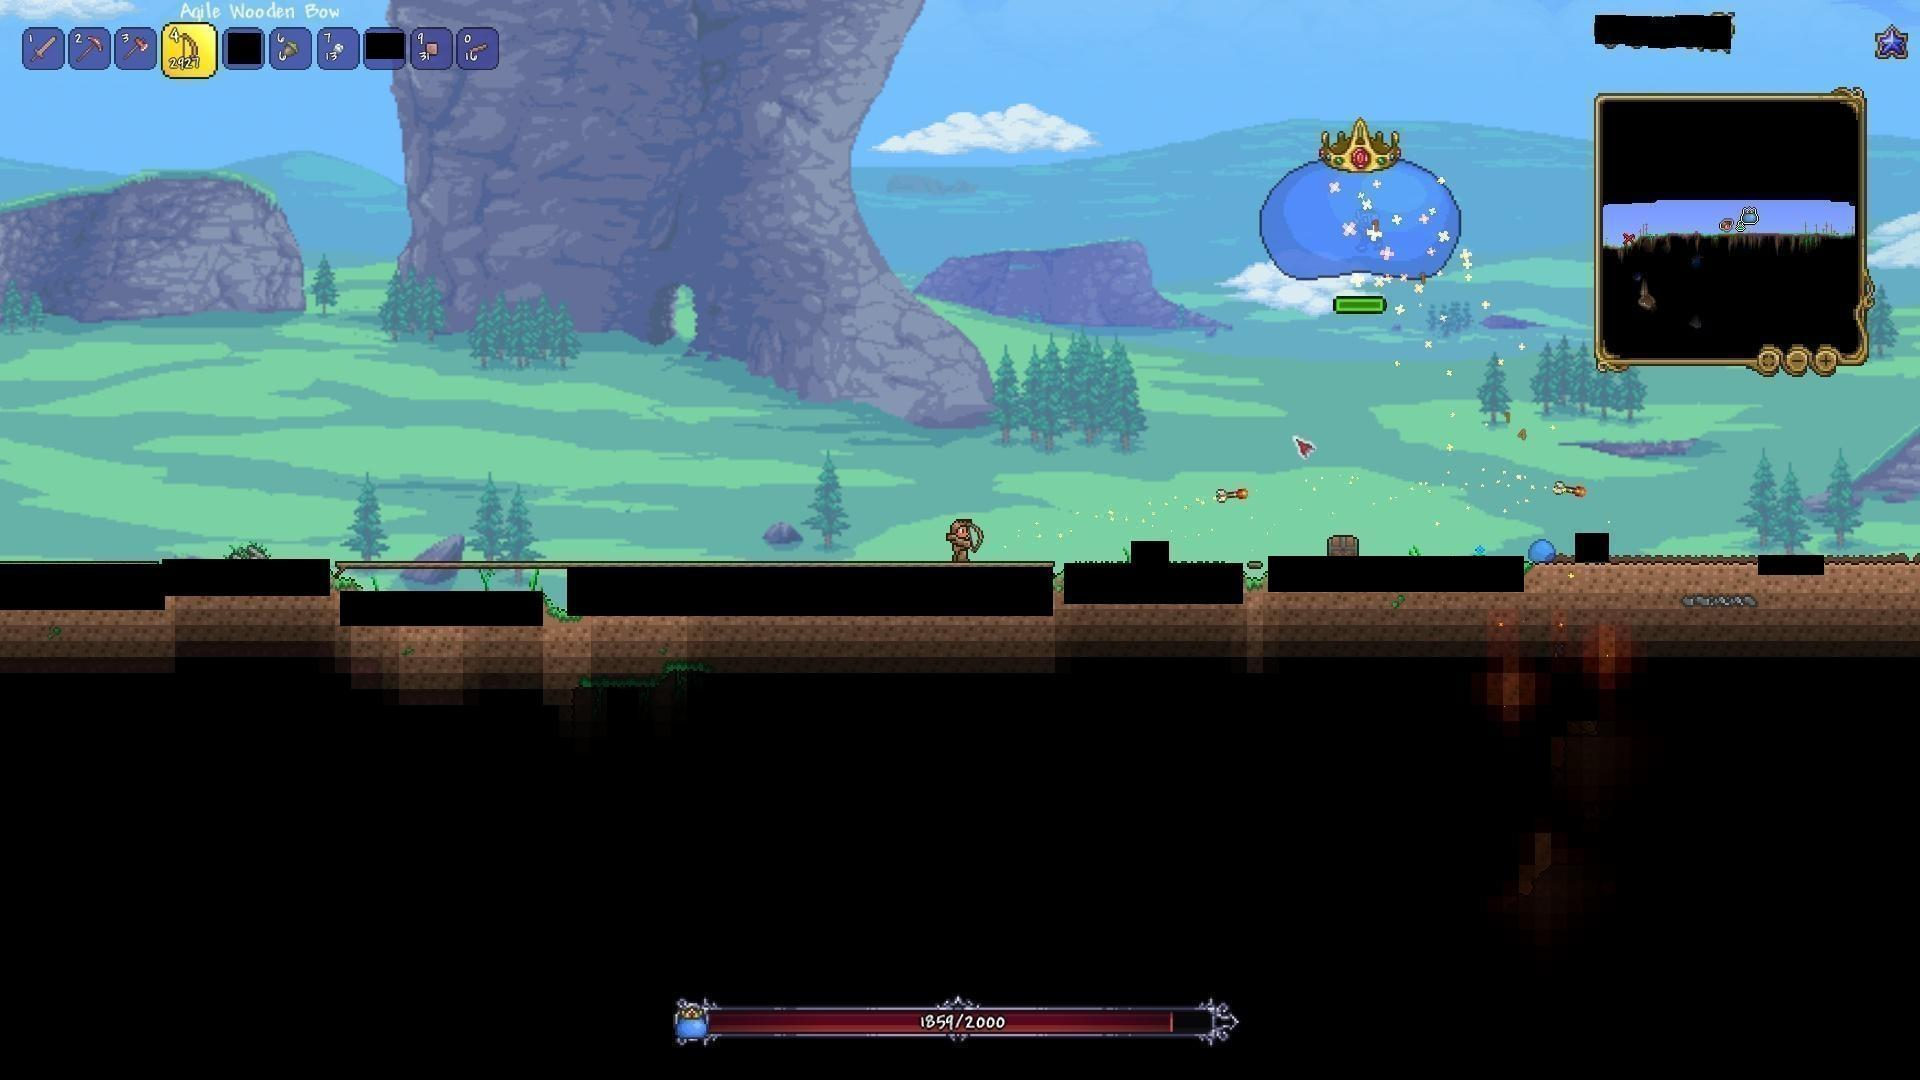slime: (1526, 535, 1557, 562)
